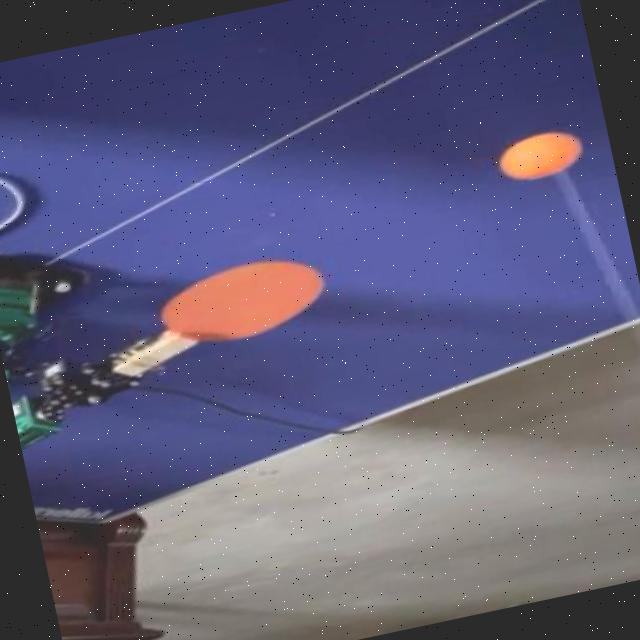ping-pong-ball: (495, 131, 577, 185)
